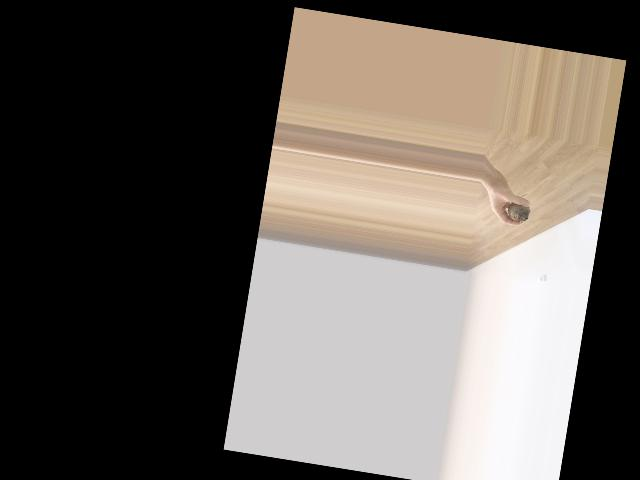beet: (506, 192, 533, 224)
